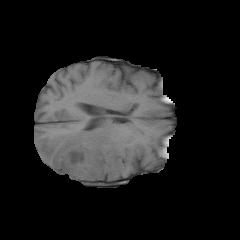glioma: (39, 129, 126, 180)
